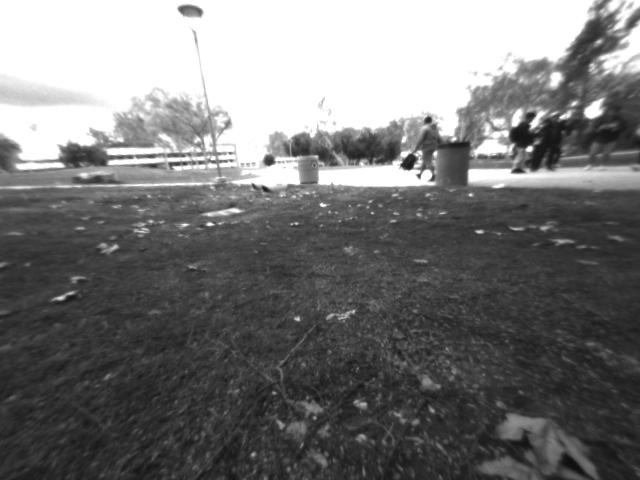trashcan: (434, 143, 467, 189), (295, 155, 326, 187)
